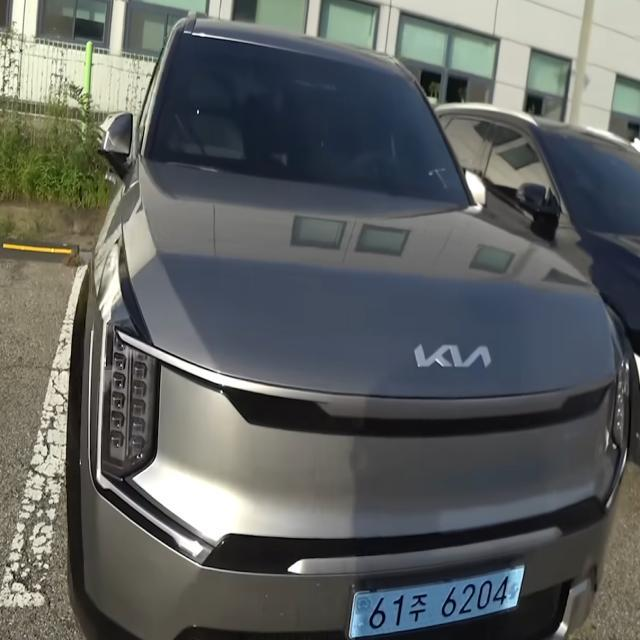car: (344, 558, 530, 640)
carev: (347, 590, 370, 639), (507, 565, 528, 612)
